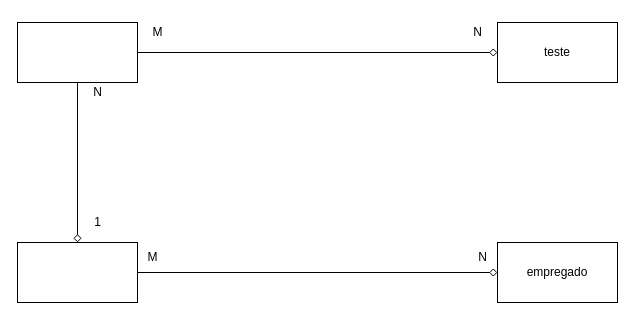
The diagram is 635 pixels wide and 320 high, and some of its shapes have lost their labels. The centre of each missing label's shape, as x and y in pixels:
"aviao" goes at pixel 77 52.
"modelo" goes at pixel 77 272.
